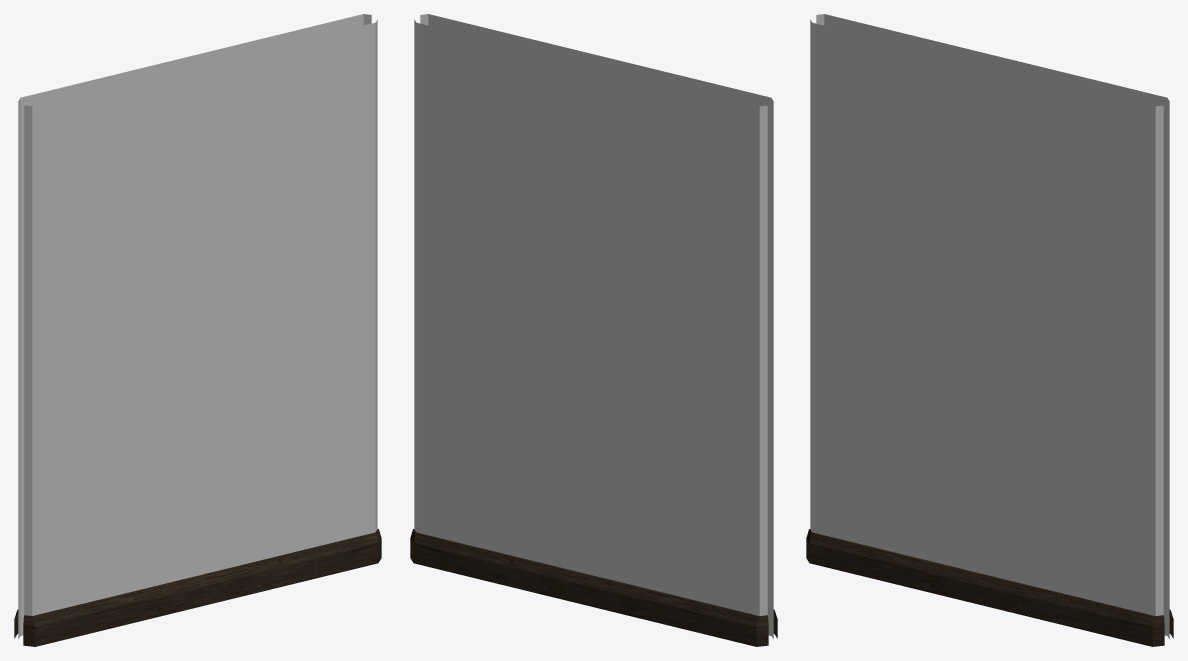
The model's file is wall_1_half.fbx.
3 views of the same model, side by side, from view 1: azimuth 30°, elevation 25°; view 2: azimuth 150°, elevation 25°; view 3: azimuth 330°, elevation 25° (orthographic).
Parts seen in each view (by area): view 1: wall_1_half; view 2: wall_1_half; view 3: wall_1_half.
Boxes of the visible parts, bbox=[...] form: wall_1_half: bbox=[14, 14, 381, 646]; wall_1_half: bbox=[410, 14, 777, 646]; wall_1_half: bbox=[806, 14, 1173, 646].
Size of the model in its own units: 2.09 by 3 by 0.18.
